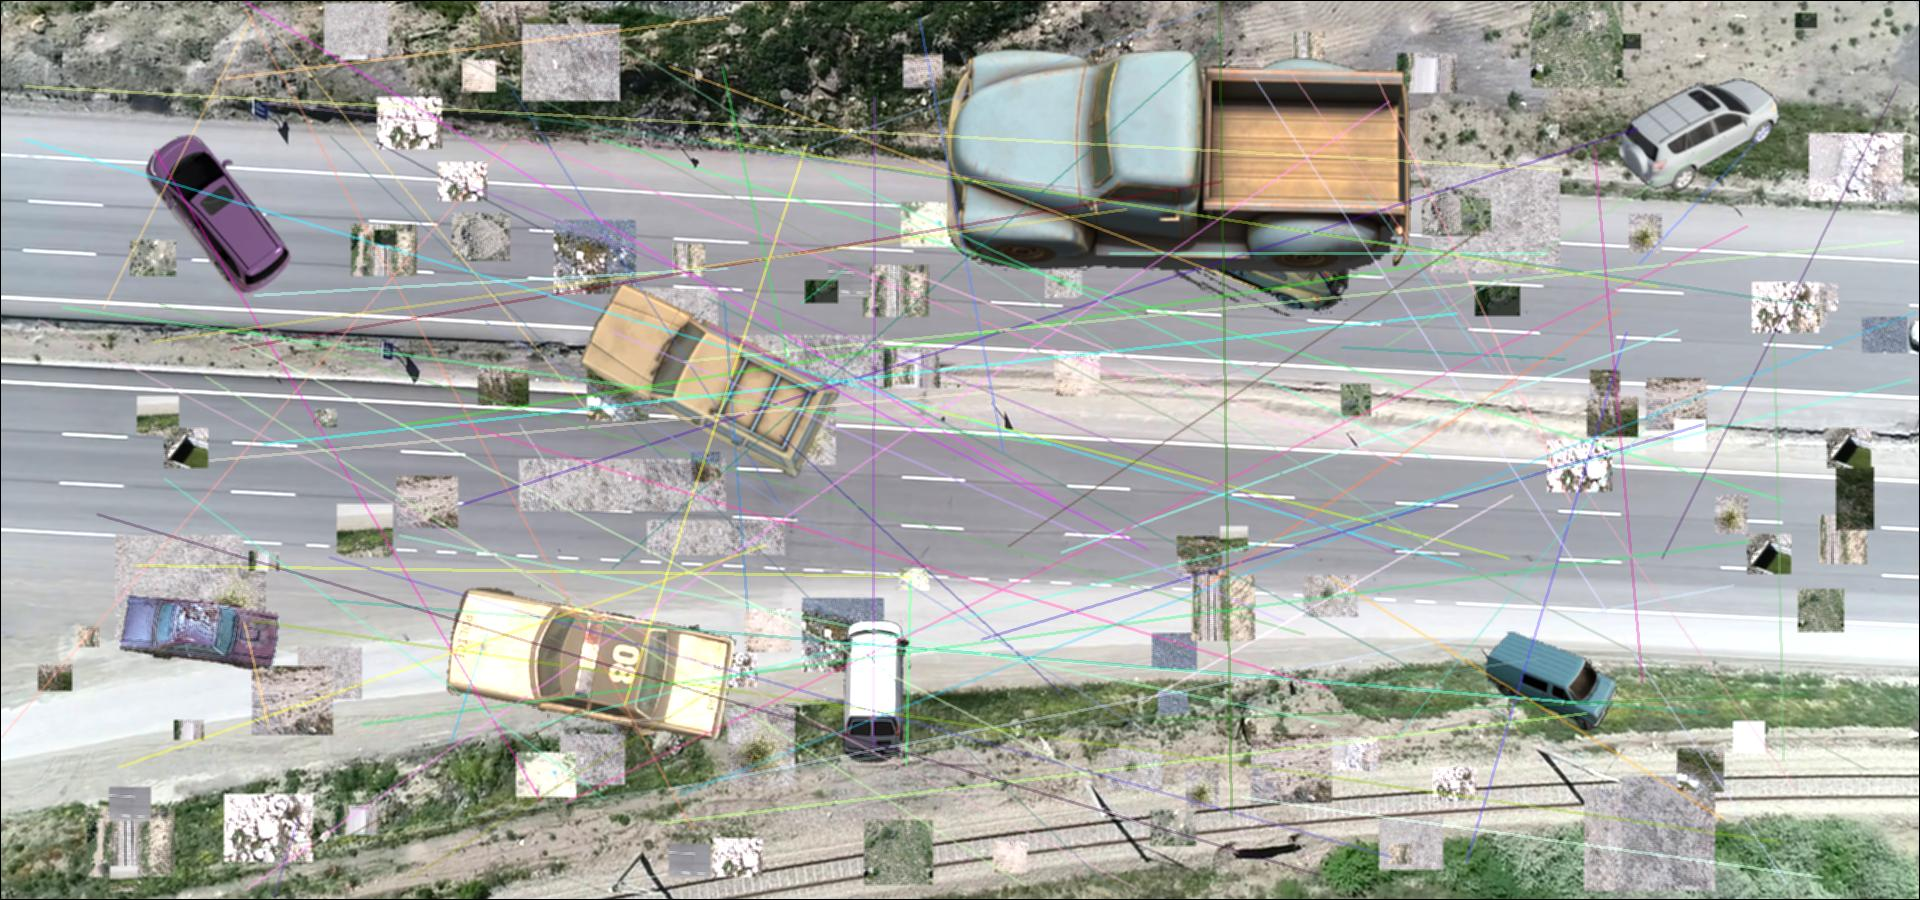arac: (947, 33, 1416, 272), (576, 273, 839, 482), (447, 580, 736, 740), (146, 133, 291, 295), (1173, 196, 1349, 316), (1619, 71, 1779, 193), (118, 589, 280, 675), (1484, 629, 1618, 732), (838, 618, 912, 763)
